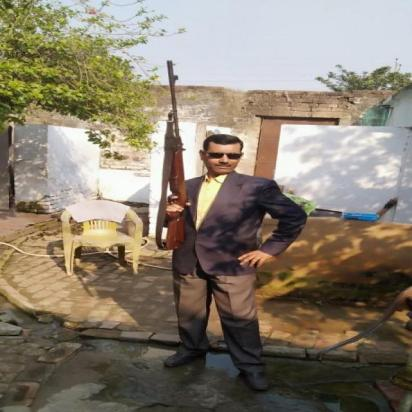Gun: (154, 58, 192, 252)
